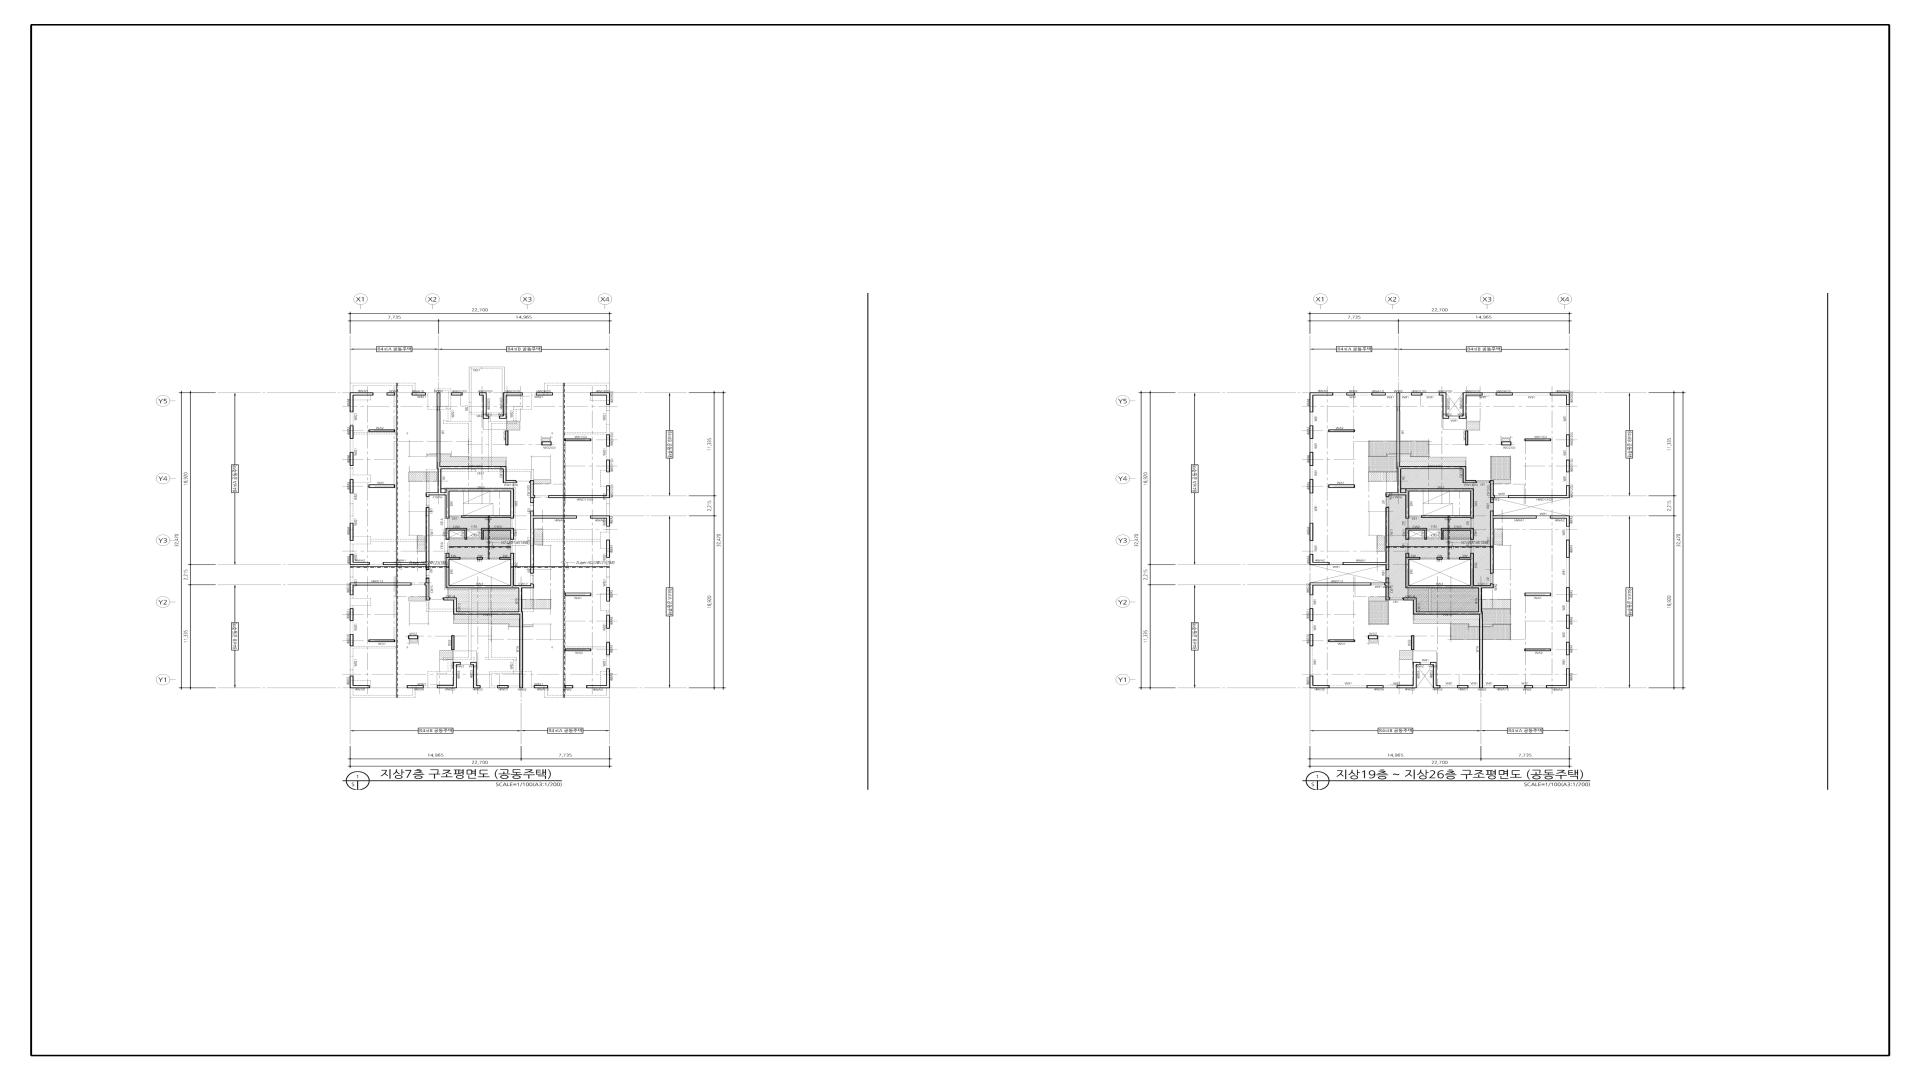wall: (1402, 597, 1483, 614), (443, 597, 523, 614), (548, 485, 610, 498), (1508, 485, 1570, 498), (350, 583, 412, 595), (1310, 583, 1371, 595), (499, 392, 523, 419), (1459, 392, 1483, 419), (437, 662, 461, 688), (1397, 662, 1421, 688), (586, 668, 610, 688), (1546, 668, 1570, 688), (350, 392, 373, 412), (1310, 392, 1333, 412), (481, 528, 514, 540), (1441, 528, 1474, 540), (1409, 584, 1494, 588), (450, 584, 534, 588), (519, 614, 523, 688), (1479, 614, 1483, 688), (470, 662, 481, 688), (1405, 488, 1474, 492), (446, 488, 514, 492), (479, 392, 489, 419), (1439, 392, 1449, 419), (1405, 528, 1427, 540), (590, 392, 610, 405), (1430, 662, 1440, 688), (1550, 392, 1570, 405), (446, 528, 467, 540), (530, 511, 534, 574), (1309, 676, 1330, 688), (1490, 511, 1494, 574), (350, 676, 370, 688), (590, 515, 610, 527), (1550, 515, 1570, 527), (1309, 554, 1330, 565), (437, 392, 440, 466), (1397, 392, 1400, 466), (350, 554, 370, 565), (437, 466, 507, 469), (1397, 466, 1466, 469), (503, 469, 517, 483), (1463, 469, 1477, 483), (426, 507, 429, 570), (1386, 507, 1389, 570), (534, 515, 577, 519), (1494, 515, 1537, 519), (461, 515, 510, 518), (1421, 515, 1470, 518), (446, 553, 450, 588), (1405, 553, 1409, 588), (425, 578, 431, 601), (1384, 578, 1390, 601), (1342, 562, 1386, 565), (383, 562, 426, 565), (1470, 553, 1474, 585), (426, 492, 450, 497), (1386, 492, 1409, 497), (510, 492, 514, 519), (529, 480, 535, 498), (1470, 492, 1474, 519), (1489, 480, 1495, 498), (446, 495, 450, 519), (511, 553, 514, 585), (1405, 495, 1409, 519), (1478, 588, 1482, 612), (368, 429, 395, 432), (368, 485, 395, 488), (1328, 429, 1355, 432), (1328, 485, 1355, 488), (565, 593, 591, 596), (1525, 593, 1551, 596), (519, 588, 522, 612), (350, 523, 354, 541), (606, 540, 610, 558), (1566, 540, 1570, 558), (438, 469, 441, 492), (1398, 469, 1401, 492), (451, 635, 455, 650), (606, 587, 610, 602), (1566, 587, 1570, 602), (1371, 392, 1386, 396), (350, 452, 354, 466), (350, 479, 354, 493), (606, 615, 610, 629), (505, 431, 509, 445), (412, 392, 426, 396), (1566, 615, 1570, 629), (368, 640, 395, 642), (1524, 649, 1551, 651), (1310, 523, 1313, 541), (1328, 640, 1355, 642), (565, 649, 591, 651), (350, 426, 354, 439), (350, 608, 354, 621), (606, 642, 610, 655), (606, 434, 610, 447), (565, 439, 591, 441), (1566, 642, 1570, 655), (1566, 434, 1570, 447), (1525, 439, 1551, 441), (407, 685, 424, 688), (536, 392, 553, 395), (1367, 685, 1384, 688), (1496, 392, 1513, 395), (350, 634, 354, 646), (1566, 460, 1570, 472), (1411, 635, 1414, 650), (534, 685, 548, 688), (1310, 452, 1313, 466), (1310, 479, 1313, 493), (1494, 685, 1508, 688), (1465, 431, 1468, 445), (408, 635, 418, 639), (1368, 635, 1378, 639), (1310, 426, 1313, 439), (1310, 608, 1313, 621), (499, 557, 511, 560), (497, 685, 509, 688), (607, 460, 610, 472), (451, 393, 463, 396), (1310, 634, 1313, 646), (450, 557, 461, 560), (1409, 557, 1420, 560), (1459, 557, 1470, 560), (1457, 685, 1468, 688), (1411, 393, 1422, 396), (542, 442, 552, 445), (1501, 442, 1511, 445), (1524, 685, 1533, 688), (1346, 392, 1355, 395), (565, 685, 573, 688), (387, 392, 395, 395), (530, 498, 534, 503), (1490, 498, 1494, 503), (477, 557, 483, 560), (1437, 557, 1443, 560)
